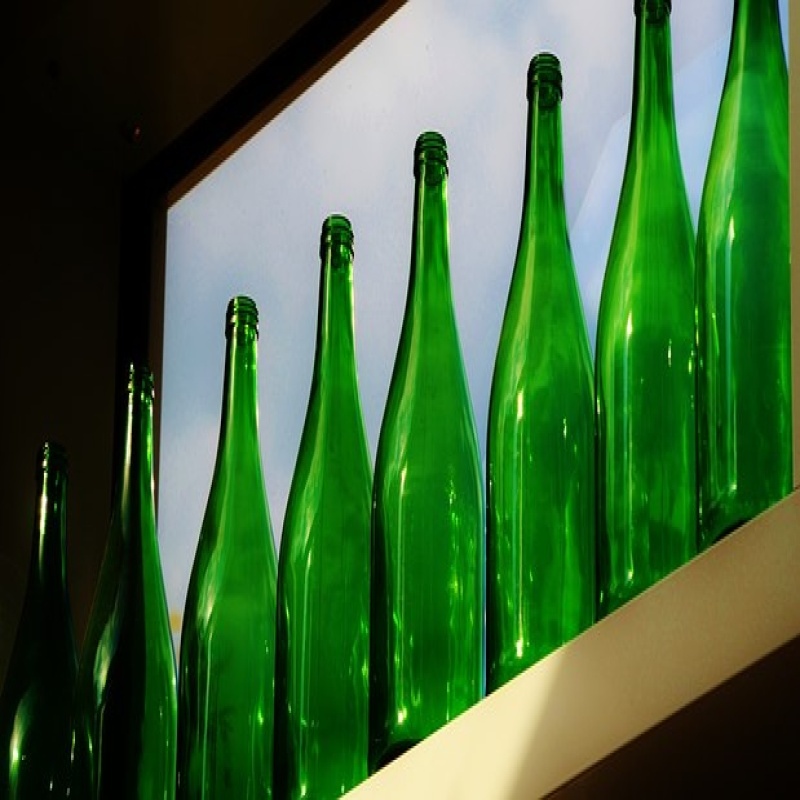wine: (482, 58, 593, 680), (372, 137, 480, 743), (275, 220, 376, 800), (178, 302, 270, 800), (84, 305, 170, 800)
